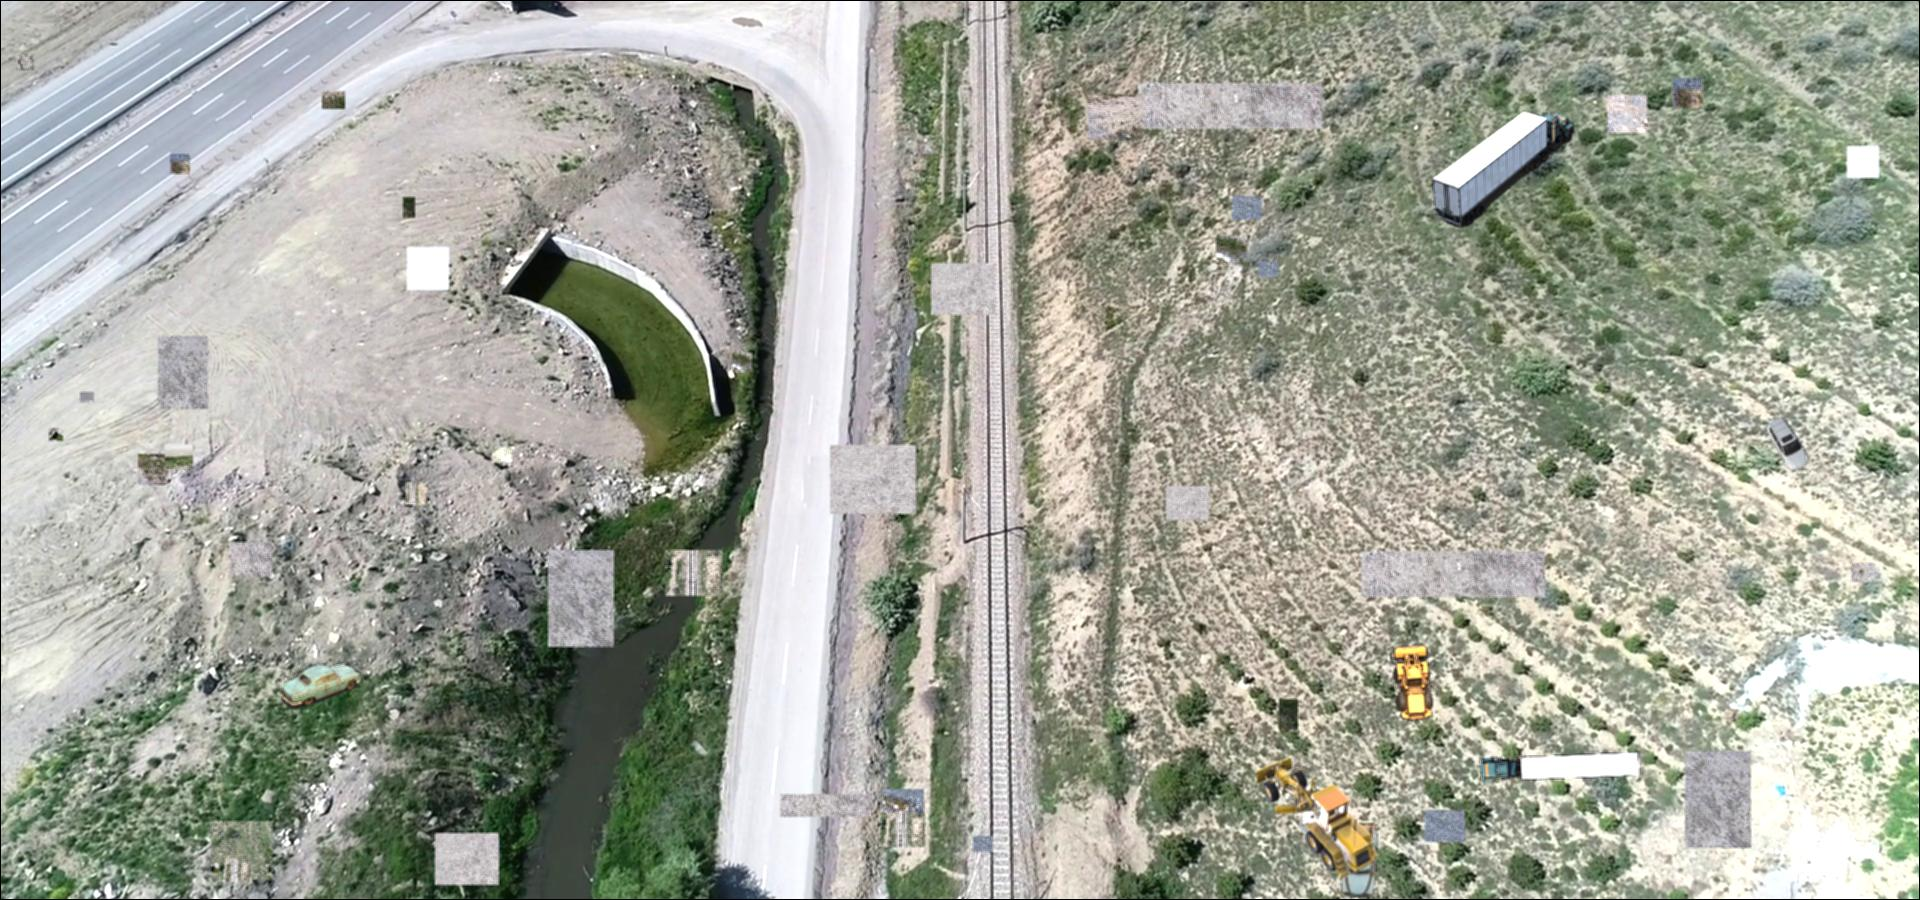arac: (1424, 107, 1575, 227), (1250, 756, 1379, 882), (1478, 751, 1643, 782), (1389, 643, 1444, 725), (280, 661, 362, 711), (1763, 414, 1812, 471), (1341, 822, 1378, 898)
